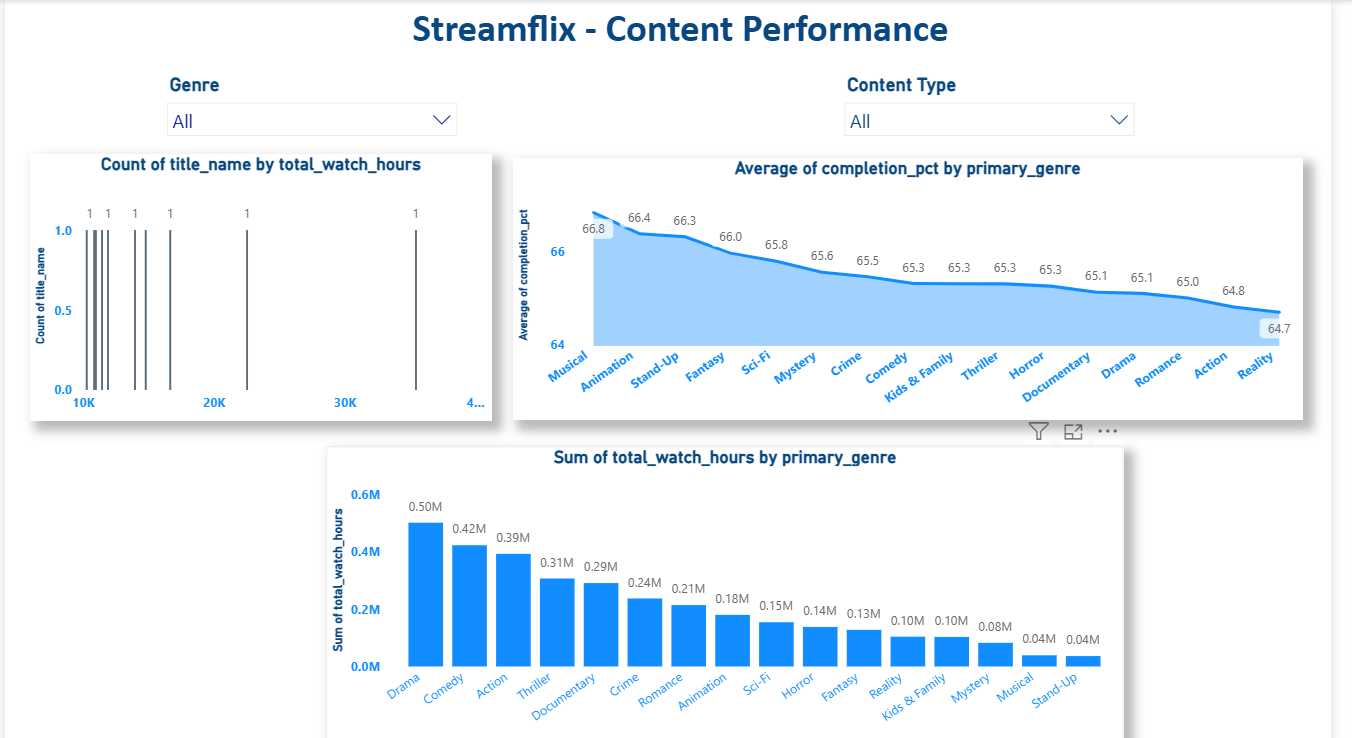

Layout of this report page (visuals, bound fields, positions):
{"tool":"powerbi","page":{"name":"Content Performance","canvas":[1280,720],"ordinal":1},"visuals":[{"type":"lineClusteredColumnComboChart","fields":{"Category":["titles.primary_genre"],"Y":["Sum(titles.total_watch_hours)"]},"box":[310.1,430.9,769.8,289.5],"z":0},{"type":"lineClusteredColumnComboChart","fields":{"Category":["titles.total_watch_hours"],"Y":["CountNonNull(titles.title_name)"]},"box":[24.7,148.2,446,258],"z":1000},{"type":"lineClusteredColumnComboChart","fields":{"Category":["titles.primary_genre"],"Y2":["Avg(watch_history.completion_pct)"]},"box":[489.9,152.3,763,253.9],"z":2000},{"type":"textbox","box":[24.7,0,1255.6,60.4],"z":3000},{"type":"slicer","fields":{"Values":["titles.primary_genre"]},"box":[145.5,65.9,300,70],"z":4000},{"type":"slicer","fields":{"Values":["titles.type"]},"box":[800,65.9,300,70],"z":5000}]}

Visuals, with their boxes on the page's 1280x720 design canvas (x1, y1, x2, y2). These are canvas units, not pixel positions in the 1352x738 screenshot, which may show the page scaled, cropped or inside an application window:
lineClusteredColumnComboChart - titles.primary_genre x Sum(titles.total_watch_hours): <box>310,431,1080,720</box>
lineClusteredColumnComboChart - titles.total_watch_hours x CountNonNull(titles.title_name): <box>25,148,471,406</box>
lineClusteredColumnComboChart - titles.primary_genre x Avg(watch_history.completion_pct): <box>490,152,1253,406</box>
textbox: <box>25,0,1280,60</box>
slicer - titles.primary_genre: <box>146,66,446,136</box>
slicer - titles.type: <box>800,66,1100,136</box>
